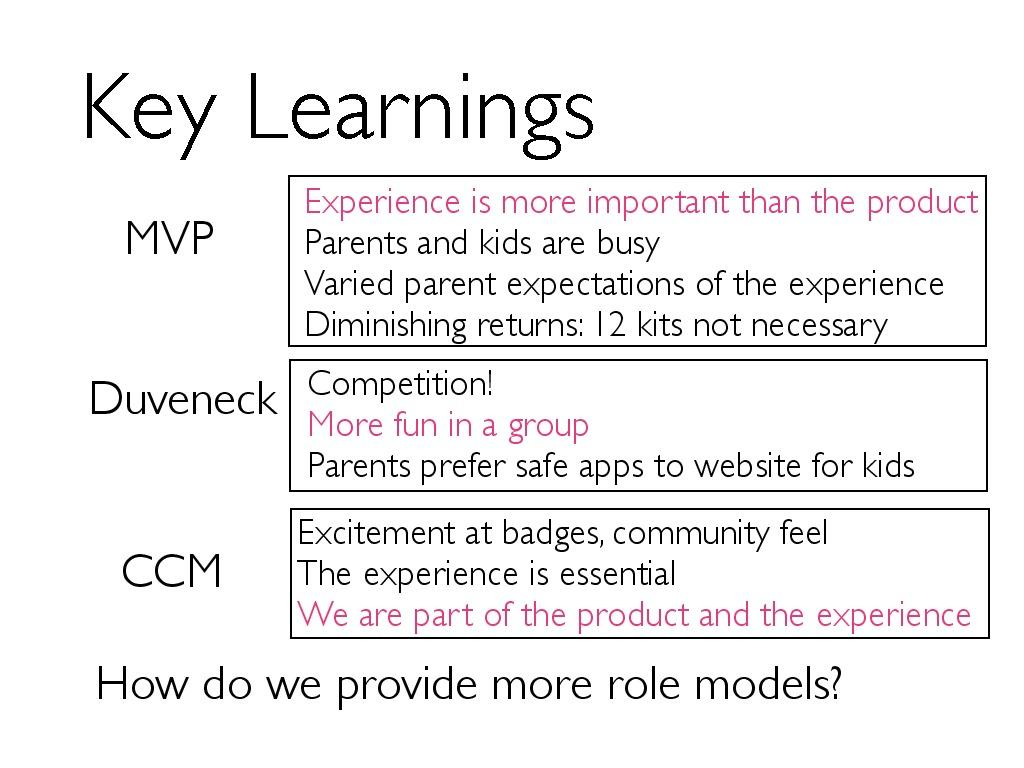paragraph: (284, 166, 1002, 640), (92, 656, 862, 722)
subtitle: (85, 357, 279, 430), (103, 526, 243, 619), (111, 204, 220, 259)
title: (79, 56, 621, 159)
